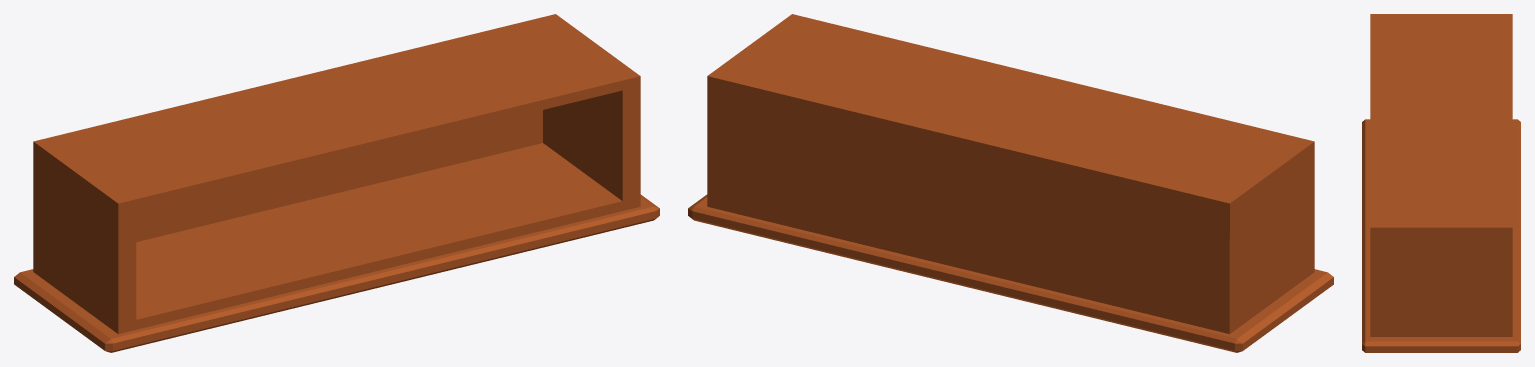
The model's file is DrawermeshDresserDrawer_209_3_3.obj.
The picture shows the model from 3 angles, left to right: view 1: azimuth 30°, elevation 25°; view 2: azimuth 150°, elevation 25°; view 3: azimuth 270°, elevation 25°; orthographic projection. The views are drawn at different scales.
Visible parts, largest first — view 1: DresserDrawer_209_3; view 2: DresserDrawer_209_3; view 3: DresserDrawer_209_3.
Boxes of the visible parts, x1=… form: DresserDrawer_209_3: x1=14, y1=14, x2=659, y2=352; DresserDrawer_209_3: x1=688, y1=14, x2=1333, y2=352; DresserDrawer_209_3: x1=1362, y1=14, x2=1520, y2=352.
Bounding box in the file's own units: 1.03 × 0.2579 × 0.3059.
